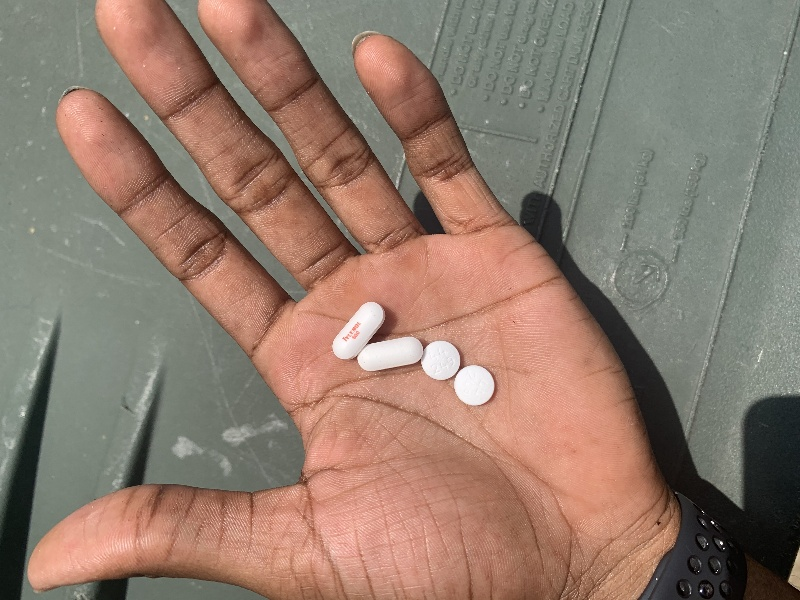Aspirin: (453, 363, 498, 406), (421, 337, 462, 384)
Tylenol: (327, 300, 389, 362), (357, 333, 426, 374)
